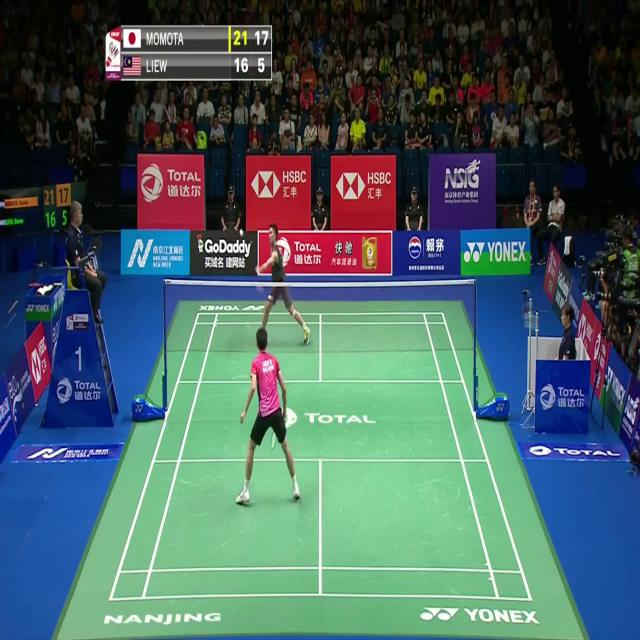Shuttlecock: (238, 227, 244, 239)
